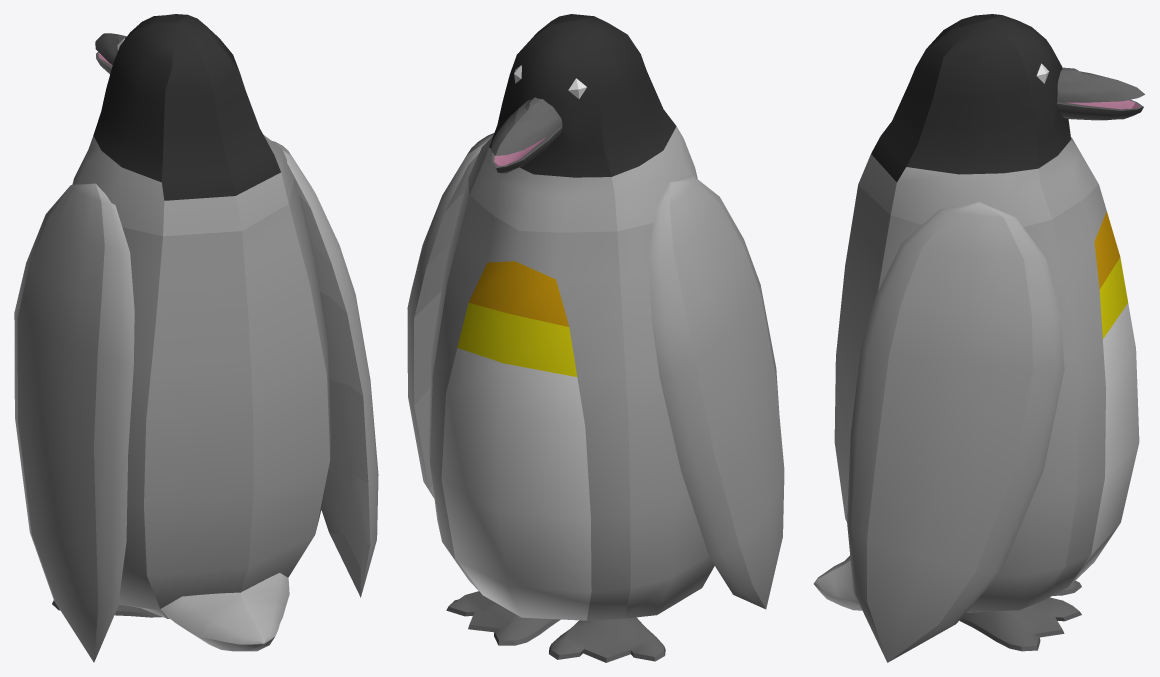
The picture shows the model from 3 angles, left to right: view 1: azimuth 30°, elevation 25°; view 2: azimuth 150°, elevation 25°; view 3: azimuth 270°, elevation 25°; orthographic projection. The views are drawn at different scales.
Parts seen in each view (by area): view 1: pSphere10; view 2: pSphere10; view 3: pSphere10.
Part boxes in pixels (bbox=[...]): pSphere10: bbox=[14, 14, 378, 662]; pSphere10: bbox=[407, 14, 784, 662]; pSphere10: bbox=[813, 14, 1144, 662].
Size of the model in its own units: 0.6191 by 1.11 by 0.5721.
